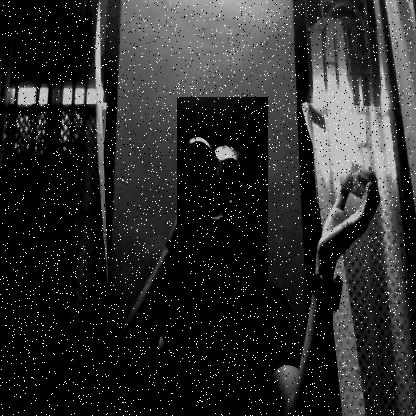Distracted: (177, 97, 268, 290)
